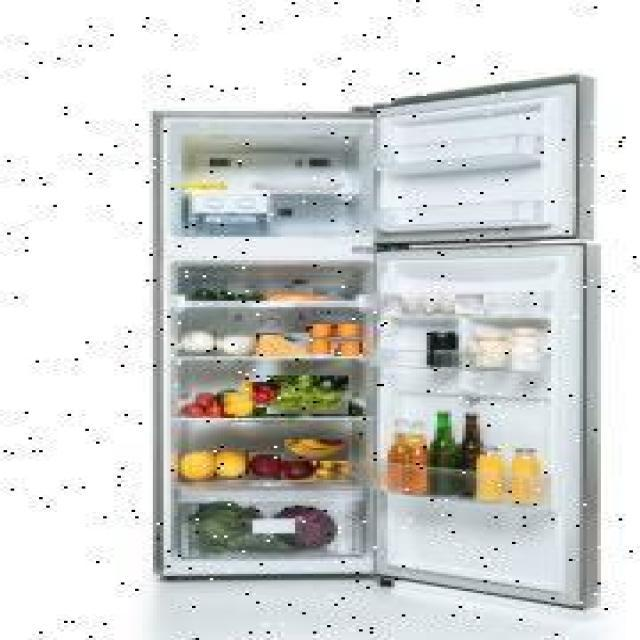apple: (248, 452, 284, 480), (282, 454, 318, 480)
banana: (284, 439, 348, 461)
bell_pepper: (242, 383, 281, 408), (220, 394, 256, 419)
cheese: (256, 333, 310, 358)
egg: (456, 294, 484, 314), (384, 294, 406, 316), (402, 295, 424, 317)
lemon: (176, 449, 219, 481), (213, 448, 246, 480)
milk: (218, 331, 262, 356), (184, 331, 218, 356)
salad: (266, 376, 348, 414)
yogurt: (330, 324, 362, 342), (306, 324, 334, 342), (306, 340, 334, 358), (334, 342, 362, 358)
